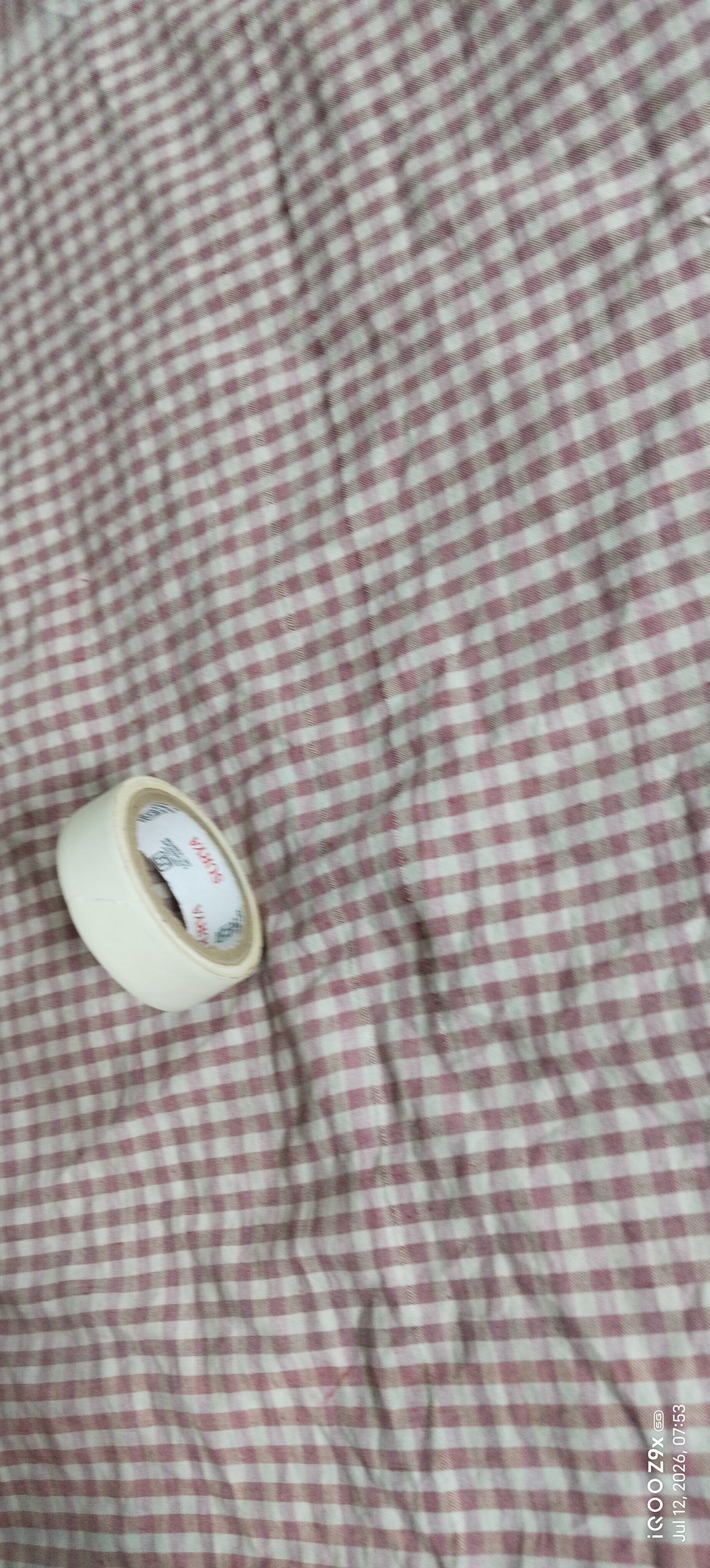tape_roll: (20, 765, 290, 1038)
